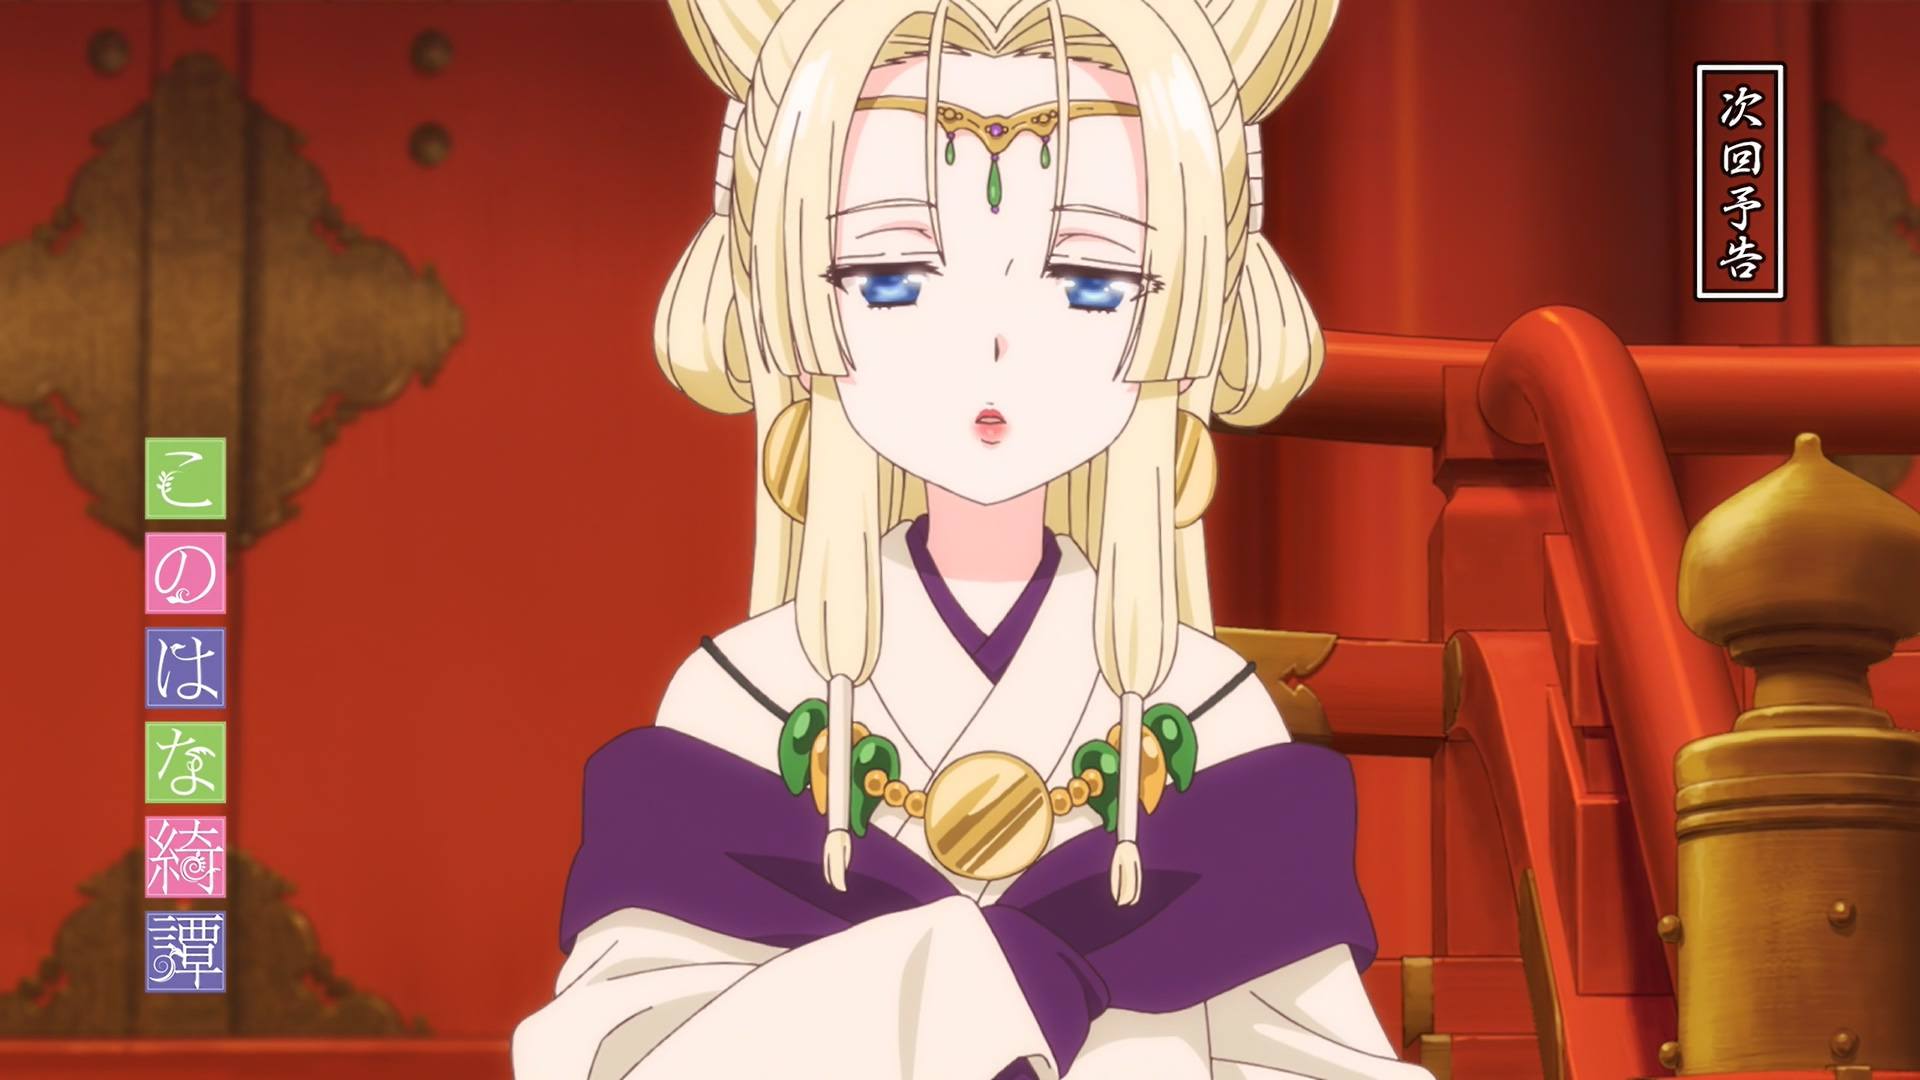其他: (512, 1, 1432, 1080)
